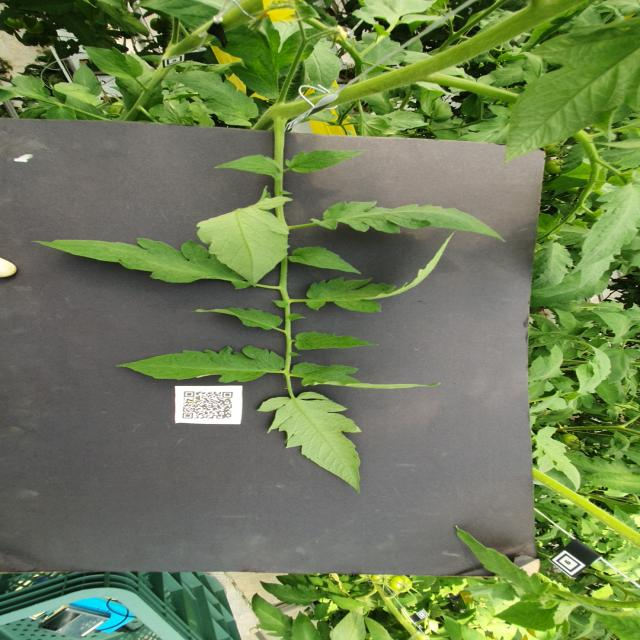Healthy Leaf: (506, 24, 640, 165), (307, 231, 475, 314), (258, 392, 374, 493), (32, 238, 253, 290), (197, 197, 295, 288), (311, 201, 507, 244), (455, 525, 551, 602), (566, 183, 640, 277), (117, 347, 286, 384), (167, 71, 260, 128), (293, 363, 444, 390), (190, 307, 284, 331), (532, 240, 575, 291), (290, 246, 362, 275), (251, 592, 294, 640), (286, 150, 368, 175), (493, 601, 557, 633), (85, 46, 145, 80), (307, 43, 344, 95), (261, 581, 330, 608), (215, 155, 282, 180), (296, 332, 380, 351), (530, 345, 567, 383), (593, 311, 633, 345), (605, 348, 640, 385), (329, 611, 368, 640), (291, 611, 324, 640), (554, 308, 577, 331)
